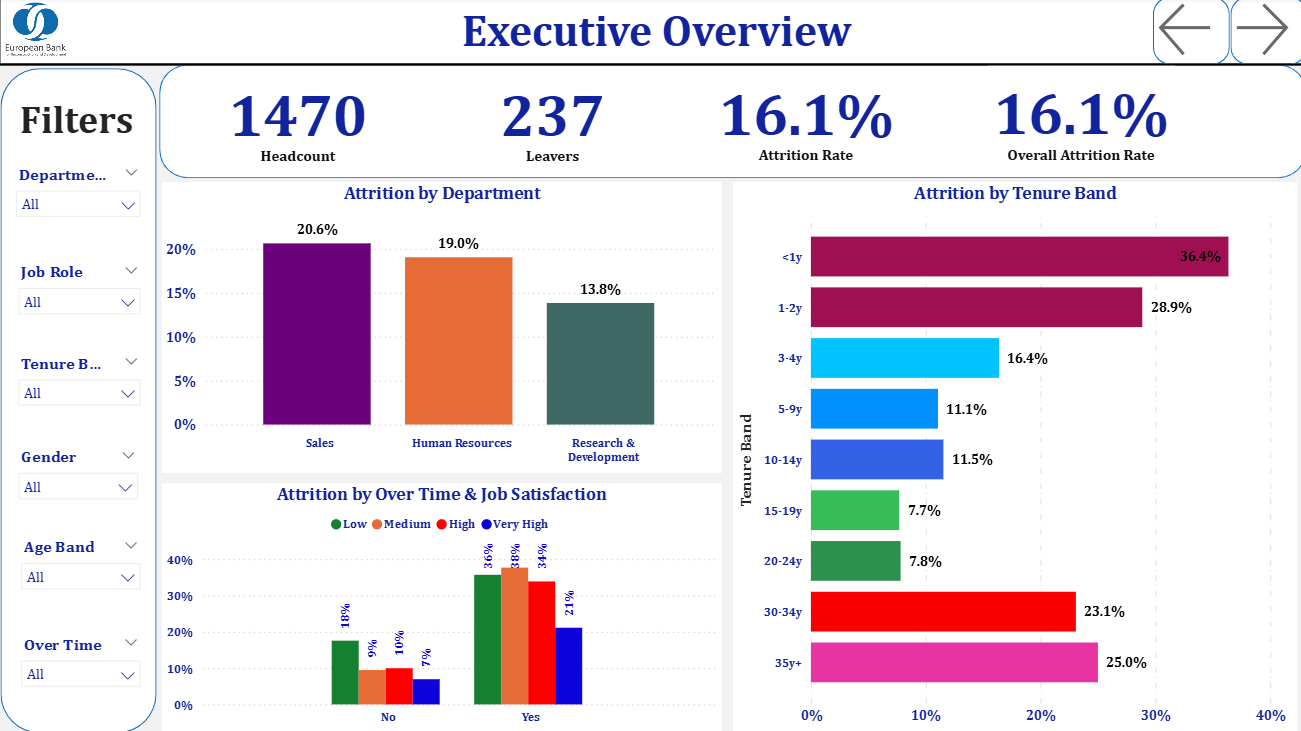

What the dashboard file says about the page in this screenshot:
{"tool":"powerbi","page":{"name":"Executive Analysis","canvas":[1280,720],"ordinal":1},"visuals":[{"type":"shape","box":[157.8,66,1122.5,111.2],"z":0},{"type":"shape","box":[2.6,69.8,152.6,650.5],"z":1000},{"type":"columnChart","title":"Attrition by Department","fields":{"Category":["Attrition Data.Department"],"Y":["KPI Measures.Attrition Rate"]},"box":[160.4,181,548.3,284.5],"z":2000},{"type":"textbox","box":[2.6,93.1,148.7,55.6],"z":3000},{"type":"clusteredBarChart","title":"Attrition by Tenure Band","fields":{"Category":["Attrition Data.Tenure Band"],"Y":["KPI Measures.Attrition Rate"]},"box":[719,181,552.2,539.3],"z":4000},{"type":"textbox","box":[0,0,1280.3,67.2],"z":5000},{"type":"clusteredColumnChart","title":"Attrition by Over Time & Job Satisfaction","fields":{"Category":["Attrition Data.Over Time"],"Y":["KPI Measures.Attrition Rate"],"Series":["Attrition Data.Job Satisfaction Label"]},"box":[160.2,475.7,547.8,244.6],"z":6000},{"type":"card","fields":{"Values":["KPI Measures.Headcount"]},"box":[201.7,69.8,183.6,99.6],"z":7000},{"type":"card","fields":{"Values":["KPI Measures.Leavers"]},"box":[457.8,69.8,170.7,99.6],"z":8000},{"type":"card","fields":{"Values":["KPI Measures.Attrition Rate"]},"box":[699.6,69.8,182.3,98.3],"z":9000},{"type":"card","fields":{"Values":["KPI Measures.Overall Attrition Rate"]},"box":[968.6,67.2,182.3,102.2],"z":10000},{"type":"slicer","fields":{"Values":["Attrition Data.Department"]},"box":[7.8,159.1,142.3,66],"z":11000},{"type":"slicer","fields":{"Values":["Attrition Data.Job Role"]},"box":[10.3,254.8,139.7,59.5],"z":12000},{"type":"slicer","fields":{"Values":["Attrition Data.Age Band"]},"box":[11.6,523.7,137.1,64.7],"z":13000},{"type":"slicer","fields":{"Values":["Attrition Data.Tenure Band"]},"box":[10.3,344,139.7,62.1],"z":14000},{"type":"slicer","fields":{"Values":["Attrition Data.Gender"]},"box":[10.3,435.8,137.1,59.5],"z":15000},{"type":"slicer","fields":{"Values":["Attrition Data.Over Time"]},"box":[11.6,618.1,137.1,58.2],"z":16000},{"type":"actionButton","box":[1130.3,0,77.6,63.4],"z":17000},{"type":"actionButton","box":[1204,0,76.3,63.4],"z":18000},{"type":"shape","box":[1130.3,0,75,66],"z":19000},{"type":"shape","box":[1205.3,0,75,66],"z":20000},{"type":"image","box":[2.4,0,70.9,63.6],"z":21000}]}

Visuals, with their boxes in screenshot pixels (x1, y1, x2, y2), scaled from the page's 1280x720 canvas onto the 1301x731 screenshot:
shape: select_region(160, 67, 1300, 180)
shape: select_region(3, 71, 158, 730)
"Attrition by Department" columnChart: select_region(163, 184, 720, 473)
textbox: select_region(3, 95, 154, 151)
"Attrition by Tenure Band" clusteredBarChart: select_region(731, 184, 1292, 730)
textbox: select_region(0, 0, 1300, 68)
"Attrition by Over Time & Job Satisfaction" clusteredColumnChart: select_region(163, 483, 720, 730)
card - KPI Measures.Headcount: select_region(205, 71, 392, 172)
card - KPI Measures.Leavers: select_region(465, 71, 639, 172)
card - KPI Measures.Attrition Rate: select_region(711, 71, 896, 171)
card - KPI Measures.Overall Attrition Rate: select_region(984, 68, 1170, 172)
slicer - Attrition Data.Department: select_region(8, 162, 153, 229)
slicer - Attrition Data.Job Role: select_region(10, 259, 152, 319)
slicer - Attrition Data.Age Band: select_region(12, 532, 151, 597)
slicer - Attrition Data.Tenure Band: select_region(10, 349, 152, 412)
slicer - Attrition Data.Gender: select_region(10, 442, 150, 503)
slicer - Attrition Data.Over Time: select_region(12, 628, 151, 687)
actionButton: select_region(1149, 0, 1228, 64)
actionButton: select_region(1224, 0, 1300, 64)
shape: select_region(1149, 0, 1225, 67)
shape: select_region(1225, 0, 1300, 67)
image: select_region(2, 0, 75, 65)
